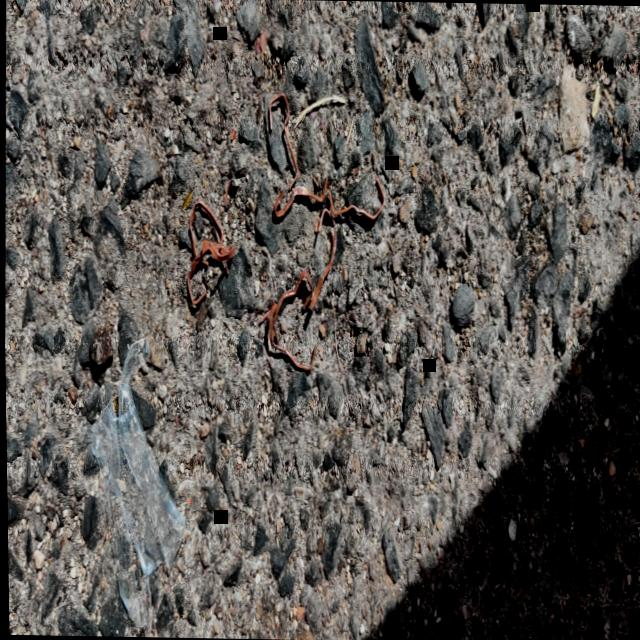Plastic film: (89, 337, 183, 627)
Scrap metal: (258, 269, 315, 369), (186, 199, 233, 304), (308, 206, 336, 311), (268, 93, 298, 190), (327, 177, 384, 219), (273, 177, 326, 217)
